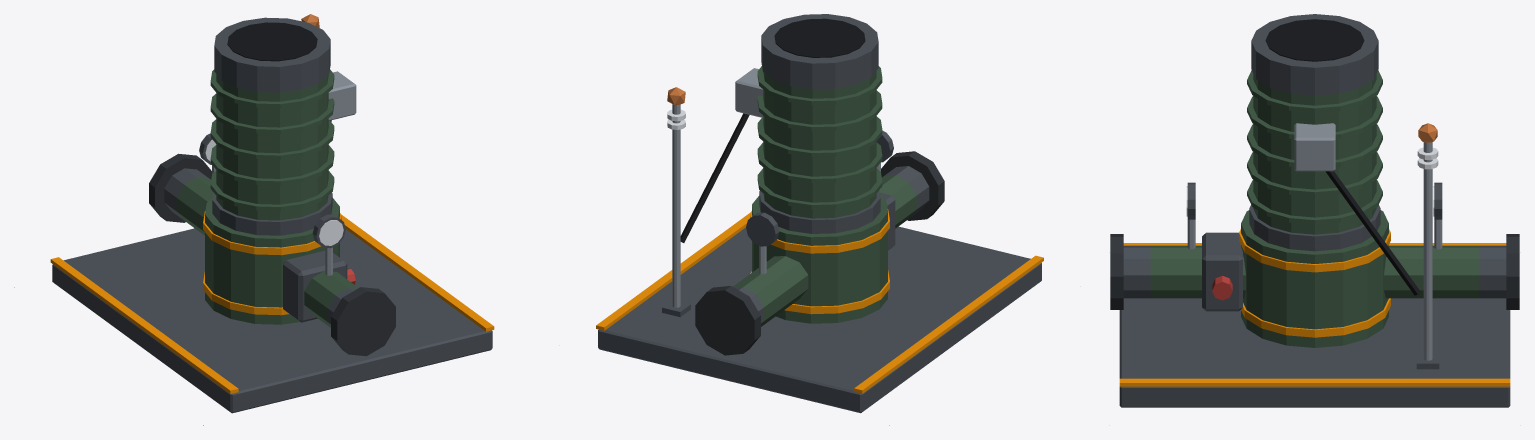
Rendered from surpresseur_t2.glb.
The picture shows the model from 3 angles, left to right: view 1: azimuth 30°, elevation 25°; view 2: azimuth 150°, elevation 25°; view 3: azimuth 270°, elevation 25°; orthographic projection. The views are drawn at different scales.
Parts seen in each view (by area): view 1: pieces_acier_sombre.050, moteur.004, pieces_vert_fonce.002, pompe_corps.002, pieces_rive_t2.016, pieces_fonte.008, pieces_noir.012, pieces_acier.044, pieces_blanc.006; view 2: pieces_acier_sombre.050, moteur.004, pieces_vert_fonce.002, pompe_corps.002, pieces_rive_t2.016, pieces_fonte.008, pieces_noir.012, pieces_acier.044, manometre_amont.002; view 3: pieces_acier_sombre.050, pieces_vert_fonce.002, pompe_corps.002, moteur.004, pieces_rive_t2.016, pieces_acier.044, pieces_noir.012, pieces_fonte.008, pieces_blanc.006, pieces_rouge.014.
Part boxes in pixels (x1,y1,x2,y2): pieces_acier_sombre.050: (52, 17, 492, 413); moteur.004: (216, 74, 328, 220); pieces_vert_fonce.002: (176, 69, 358, 327); pompe_corps.002: (205, 198, 339, 324); pieces_rive_t2.016: (50, 211, 494, 393); pieces_fonte.008: (149, 153, 395, 356); pieces_noir.012: (227, 22, 331, 121); pieces_acier.044: (212, 71, 356, 275); pieces_blanc.006: (205, 139, 343, 245); pieces_acier_sombre.050: (598, 14, 1041, 413); moteur.004: (763, 71, 876, 218); pieces_vert_fonce.002: (733, 66, 916, 326); pompe_corps.002: (752, 196, 887, 323); pieces_rive_t2.016: (596, 209, 1043, 393); pieces_fonte.008: (695, 151, 944, 355); pieces_noir.012: (680, 18, 865, 242); pieces_acier.044: (672, 68, 880, 307); manometre_amont.002: (746, 212, 779, 246); pieces_acier_sombre.050: (1119, 14, 1510, 407); pieces_vert_fonce.002: (1150, 70, 1479, 298); pompe_corps.002: (1241, 210, 1388, 347); moteur.004: (1253, 74, 1376, 234); pieces_rive_t2.016: (1119, 229, 1510, 386); pieces_acier.044: (1187, 123, 1442, 360); pieces_noir.012: (1265, 19, 1420, 295); pieces_fonte.008: (1110, 234, 1519, 309); pieces_blanc.006: (1186, 147, 1438, 216); pieces_rouge.014: (1212, 276, 1232, 300).
Size of the model in its own units: 1 by 0.8025 by 1.
